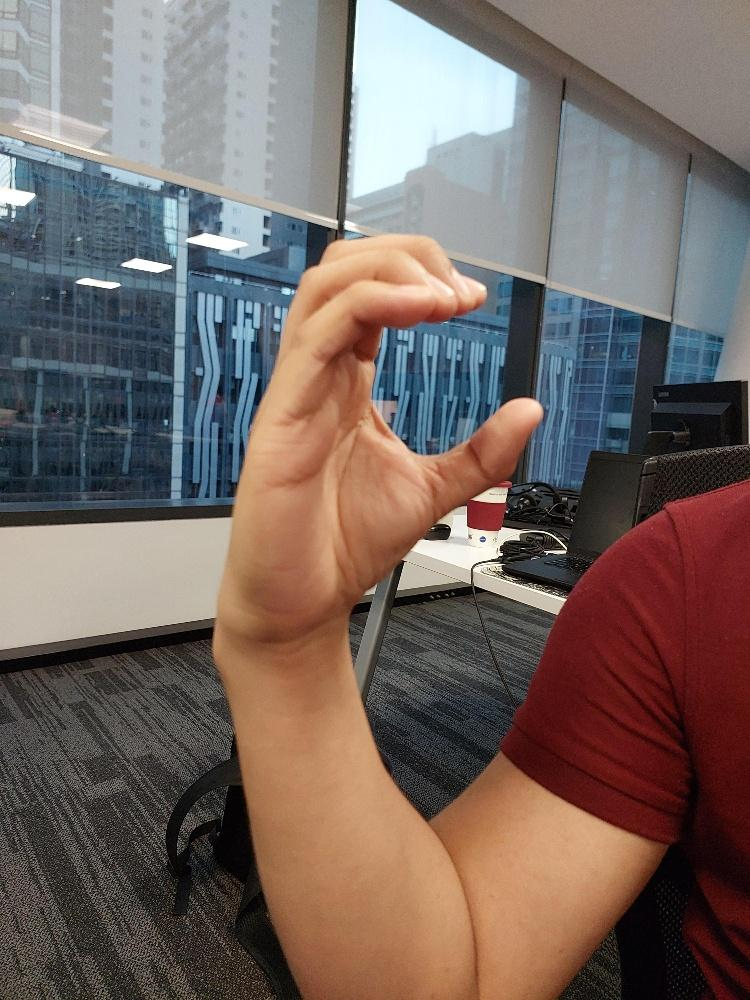c: (211, 225, 549, 650)
